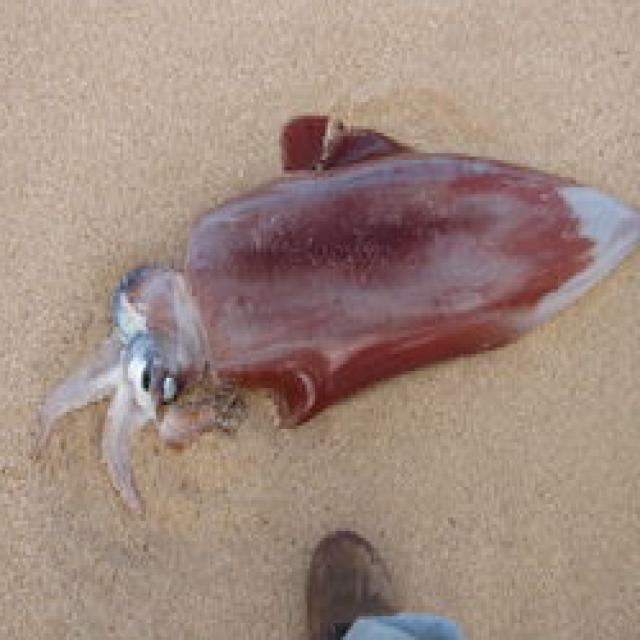SQUID: (31, 95, 640, 515)
